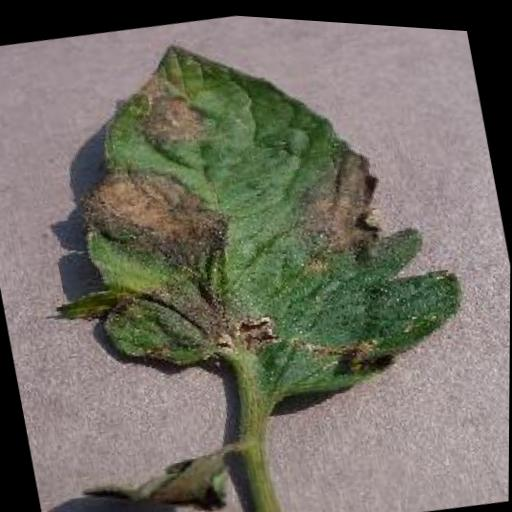Late Blight: (13, 1, 479, 447)
